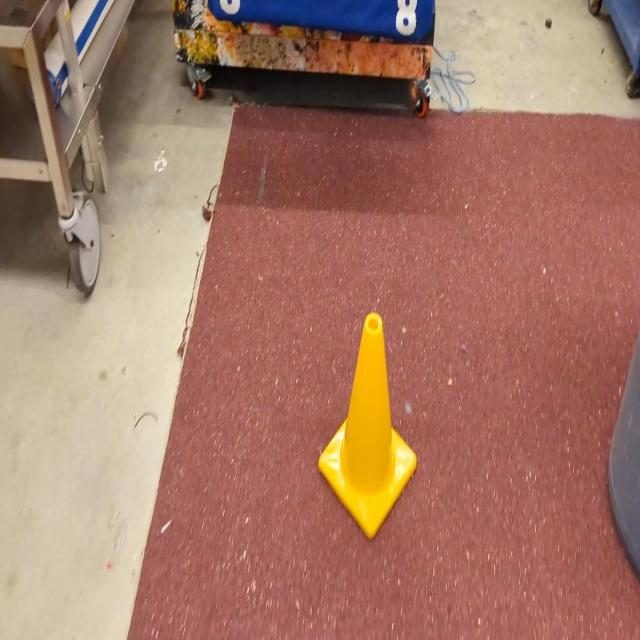frc_cone: (317, 311, 417, 541)
